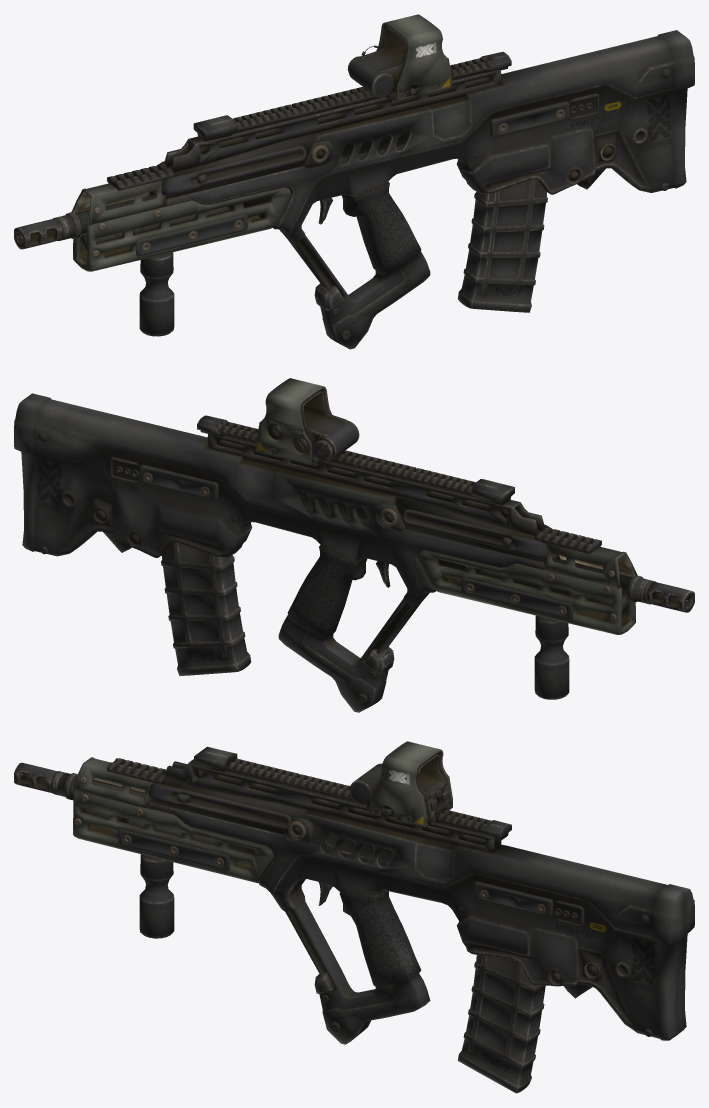
File: SM_AssaultRifle.fbx
3 views of the same model, one above another, from view 1: azimuth 30°, elevation 25°; view 2: azimuth 150°, elevation 25°; view 3: azimuth 330°, elevation 25° (orthographic).
Visible parts, largest first — view 1: SM_AssaultRifle; view 2: SM_AssaultRifle; view 3: SM_AssaultRifle.
Boxes of the visible parts, x1,y1,x2,y2 form: SM_AssaultRifle: (14, 14, 694, 349); SM_AssaultRifle: (14, 378, 694, 712); SM_AssaultRifle: (14, 741, 694, 1093).
Bounding box in the file's own units: 89.44 × 39.88 × 6.61.
